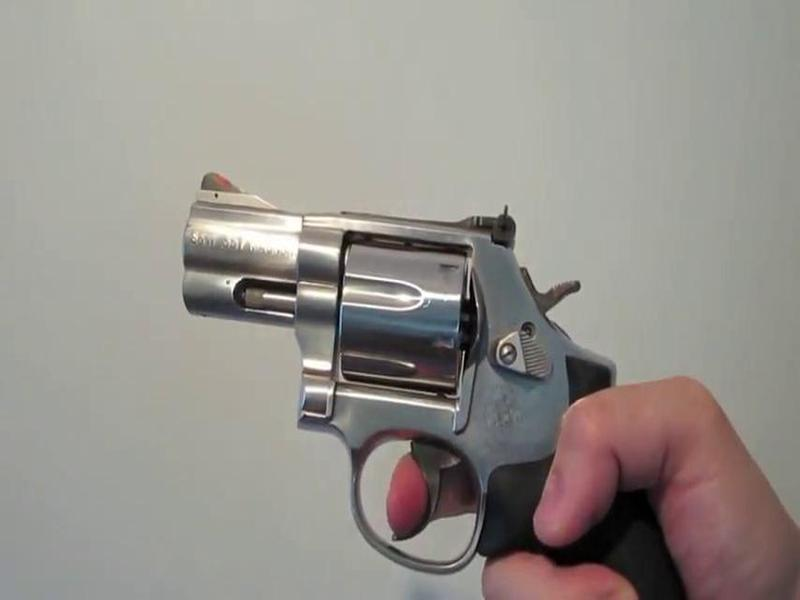Revolver: (175, 110, 687, 568)
